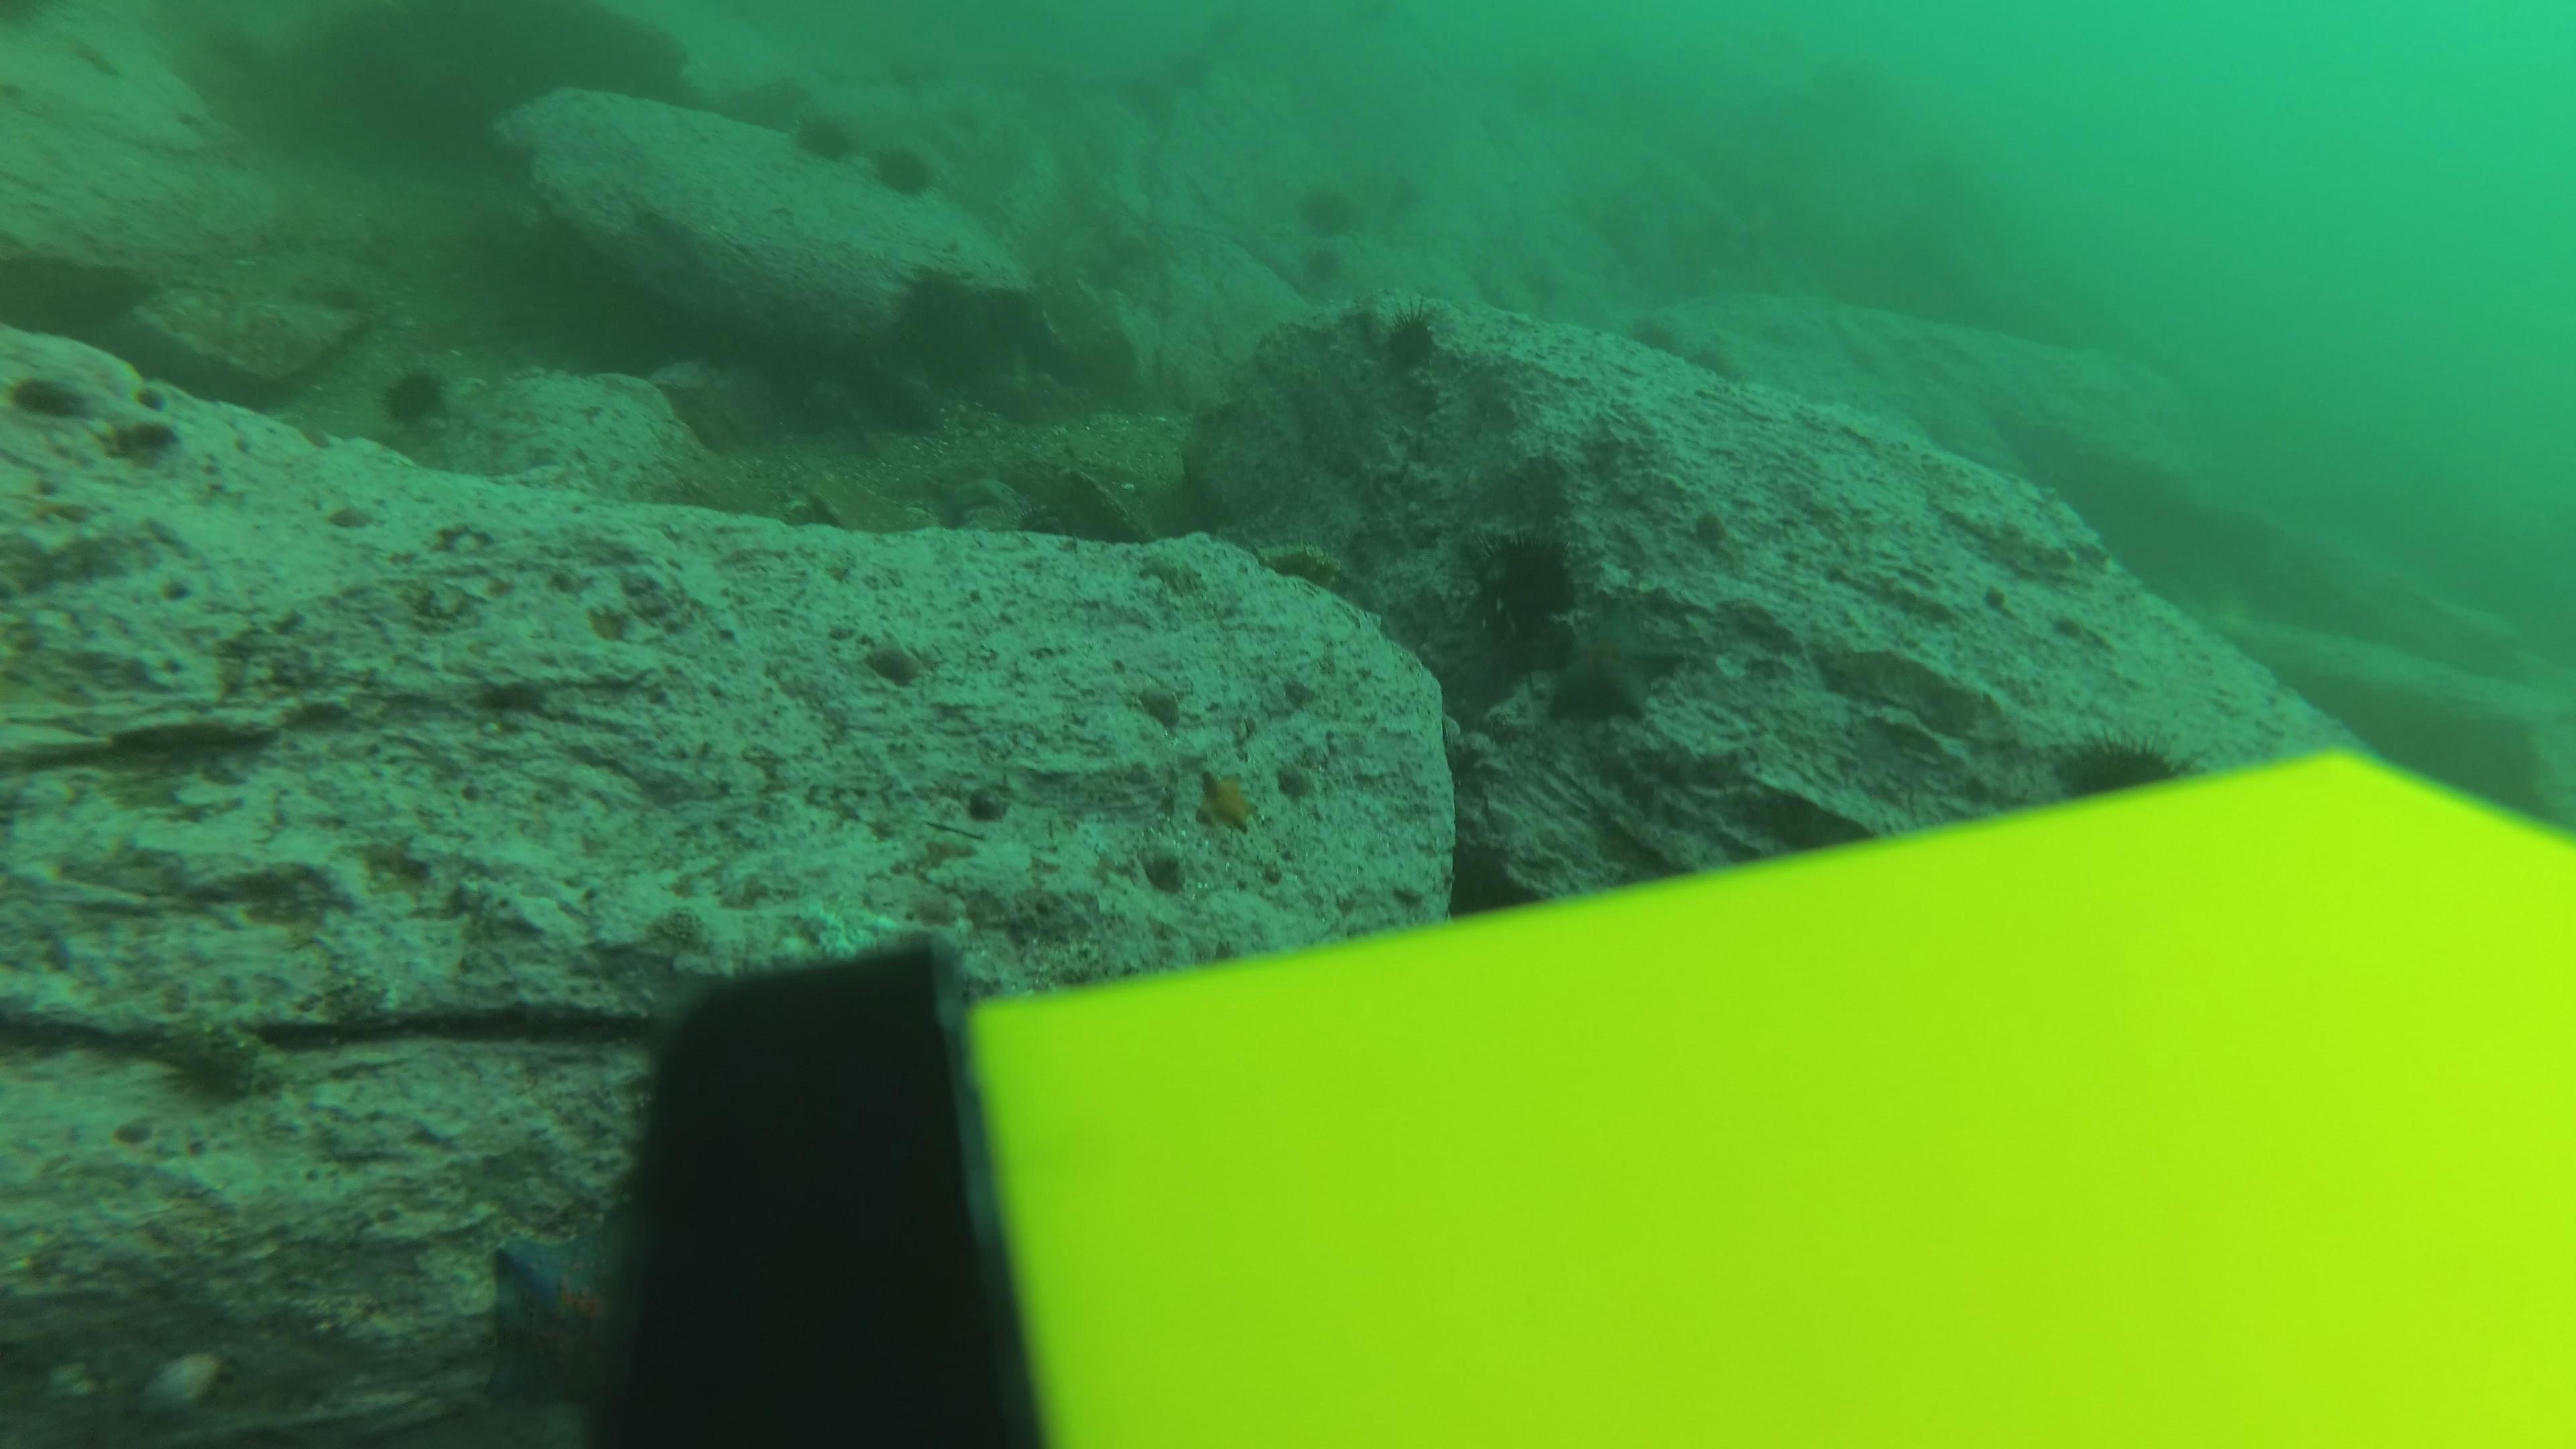echinus: (1460, 525, 1585, 651), (2049, 724, 2185, 805), (370, 357, 464, 448), (1375, 303, 1447, 377), (867, 138, 941, 203), (1292, 177, 1362, 242), (787, 106, 858, 168), (1293, 239, 1346, 288)
starfish: (472, 1215, 653, 1424), (1536, 596, 1688, 731), (913, 467, 1016, 533), (1254, 534, 1359, 593), (1189, 763, 1267, 837)
